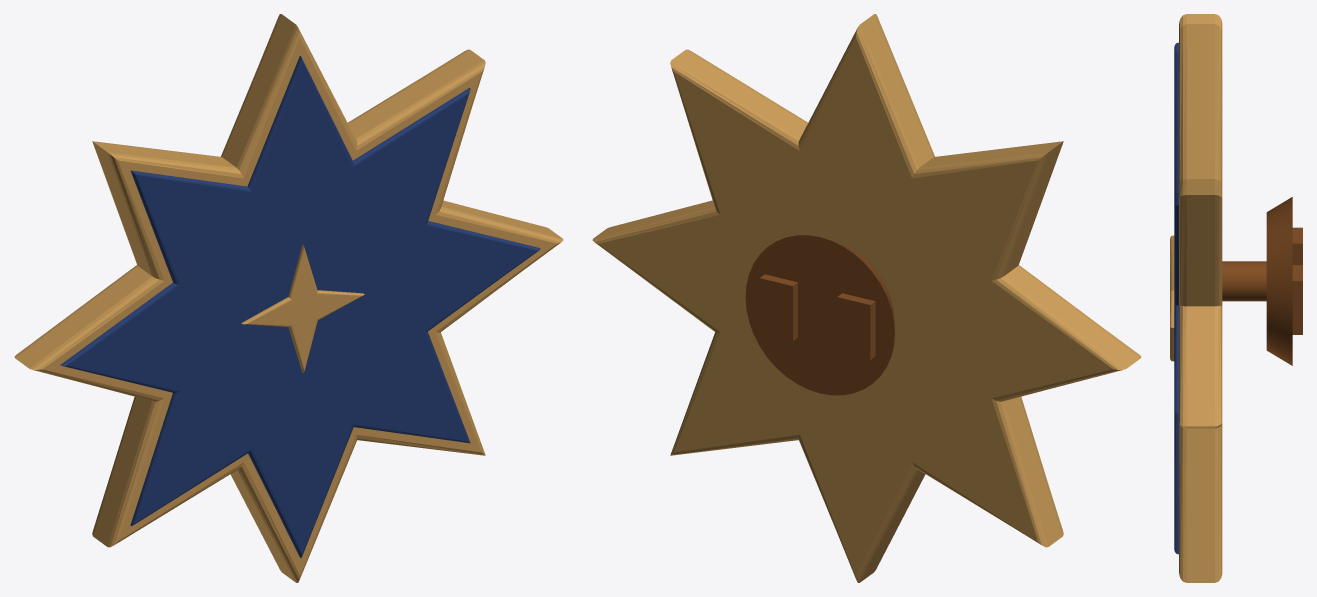
File: polar.glb
3 views of the same model, side by side, from view 1: azimuth 30°, elevation 25°; view 2: azimuth 150°, elevation 25°; view 3: azimuth 270°, elevation 25° (orthographic).
Size of the model in its own units: 1.93 by 1.93 by 0.4225.
